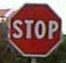stop: (6, 2, 62, 57)
